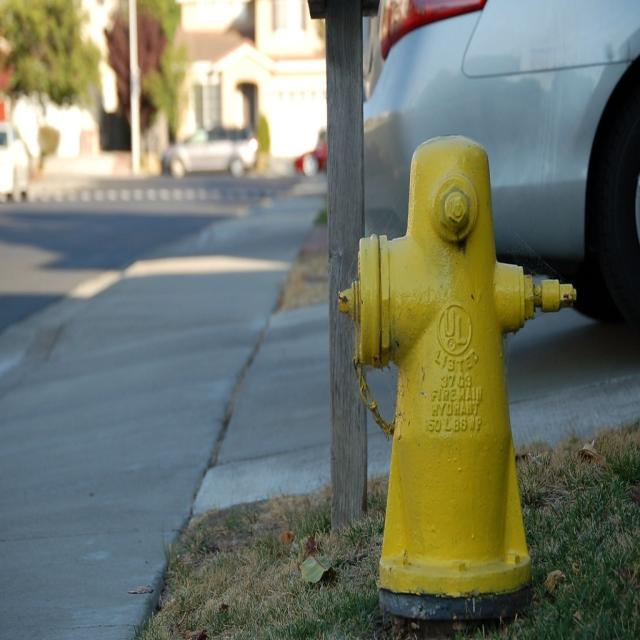fire_hydrant: (335, 148, 569, 631)
